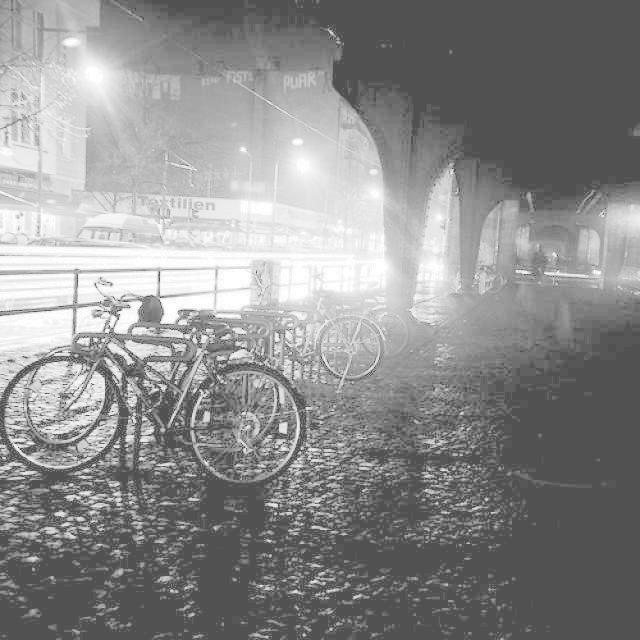Bicycle: (4, 323, 300, 564), (161, 304, 396, 450), (259, 268, 437, 383)
